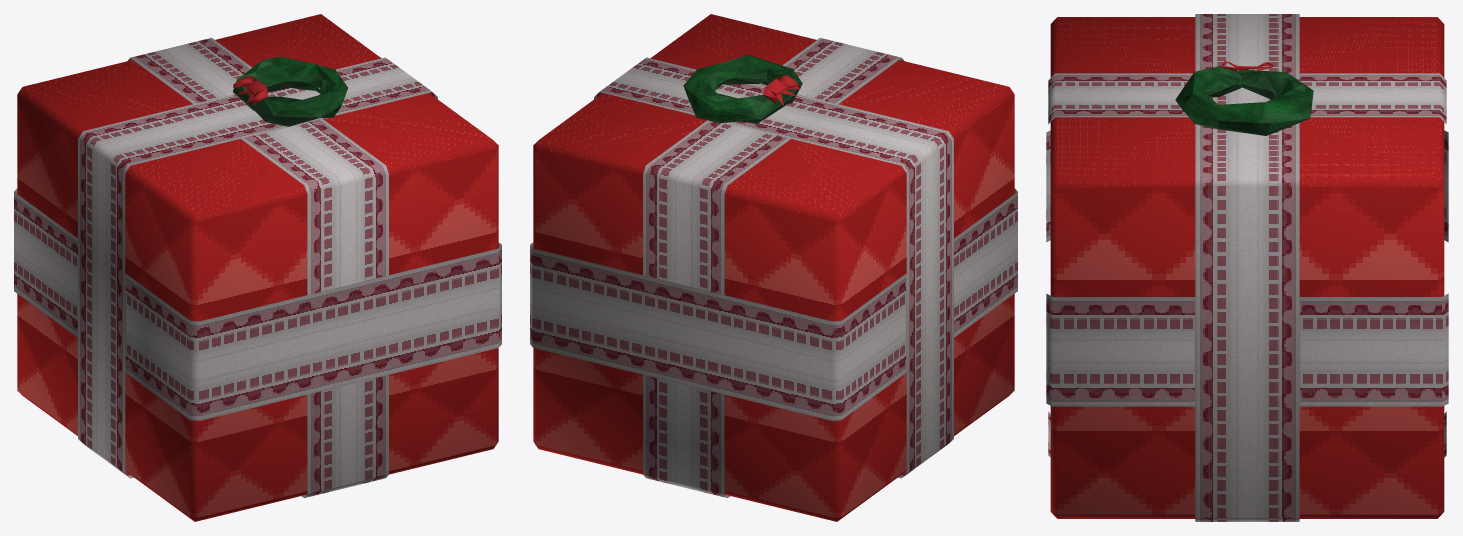
File: crate-iron-lod0.glb
The picture shows the model from 3 angles, left to right: view 1: azimuth 30°, elevation 25°; view 2: azimuth 150°, elevation 25°; view 3: azimuth 270°, elevation 25°; orthographic projection. The views are drawn at different scales.
Visible parts, largest first — view 1: red present, red present handle; view 2: red present, red present handle; view 3: red present, red present handle.
Boxes of the visible parts, x1,y1,x2,y2 form: red present: (14, 14, 501, 521); red present handle: (233, 56, 347, 126); red present: (530, 14, 1017, 521); red present handle: (683, 54, 802, 123); red present: (1046, 14, 1448, 521); red present handle: (1175, 61, 1313, 135).
Bounding box in the file's own units: 1.81 × 1.9 × 1.83.
Materials: 5 (5 with a texture image).
